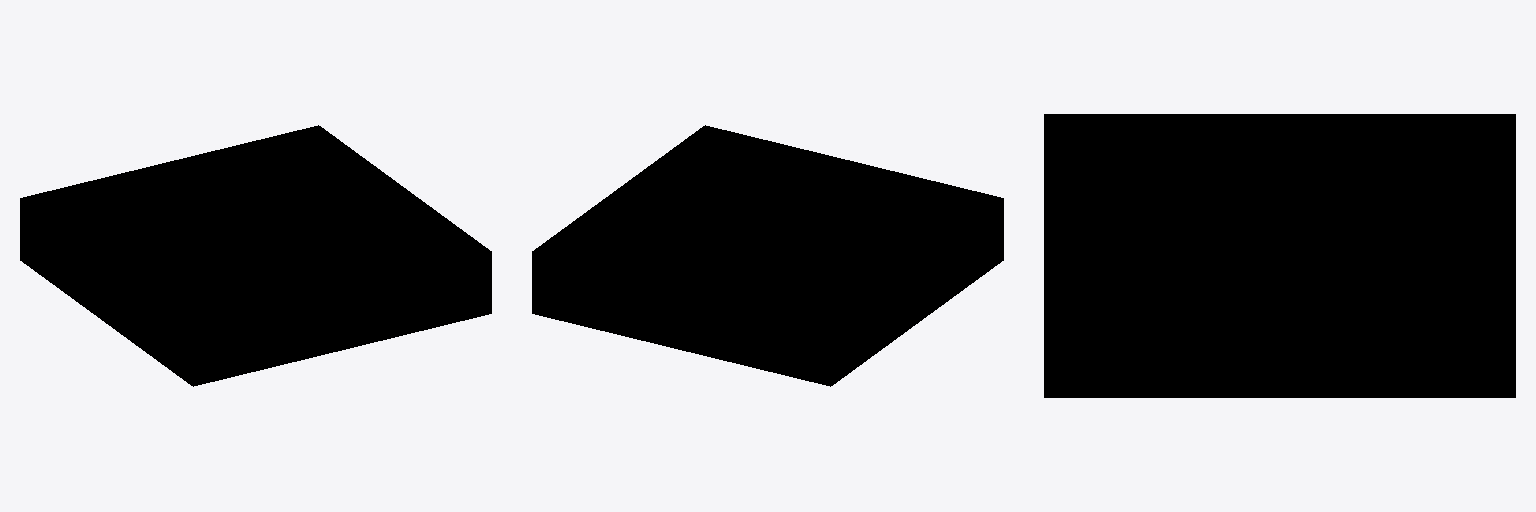
URDF robot description (conveyor):
<?xml version="1.0" ?>
<robot name="conveyor">
  <link name="baseLink">
    <contact>
    	<friction_anchor/>
    	   <lateral_friction value="1.0"/>
    </contact>
    <inertial>
      <origin rpy="0 0 0" xyz="0 0 0"/>
       <mass value=".1"/>
       <inertia ixx="1e-3" ixy="0" ixz="0" iyy="1e-3" iyz="0" izz="1e-3"/>
    </inertial>
    <visual>
      <origin rpy="0 0 0" xyz="0 0 0"/>
      <geometry>
		<box size=".1 .1 .02"/>
      </geometry>
       <material name="black">
        <color rgba="0 0 0 1"/>
      </material>
    </visual>
    <collision>
      <origin rpy="0 0 0" xyz="0 0 0"/>
      <geometry>
	 	<box size=".1 .1 .02"/>
      </geometry>
    </collision>
  </link>
</robot>

--- Facts derived from the render (not from the file) ---
Views: 3 orthographic renders of the robot side by side, from view 1: azimuth 30°, elevation 25°; view 2: azimuth 150°, elevation 25°; view 3: azimuth 270°, elevation 25°.
Model conveyor with 1 links and 0 joints (none), rooted at baseLink, posed every joint at zero.
Links seen in each view (by area): view 1: baseLink; view 2: baseLink; view 3: baseLink.
Boxes of the visible links, x1,y1,x2,y2 form: baseLink: (20, 125, 491, 386); baseLink: (532, 125, 1003, 386); baseLink: (1044, 114, 1515, 397).
Size in the robot's own frame: 0.1 by 0.1 by 0.02 metres.
Geometry: primitives only (box / cylinder / sphere), no mesh files.
